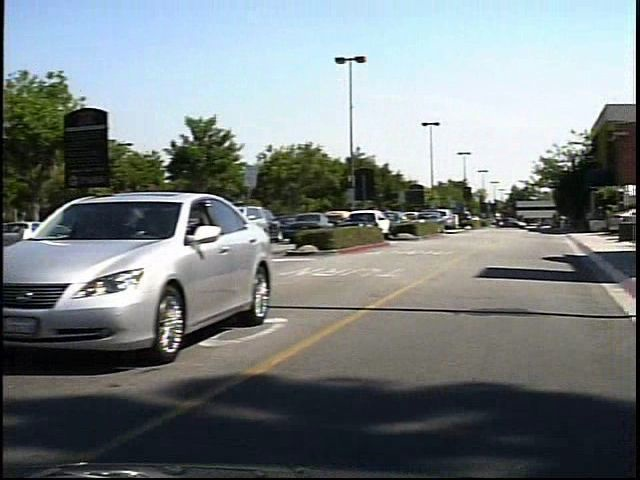person: (503, 208, 516, 232)
